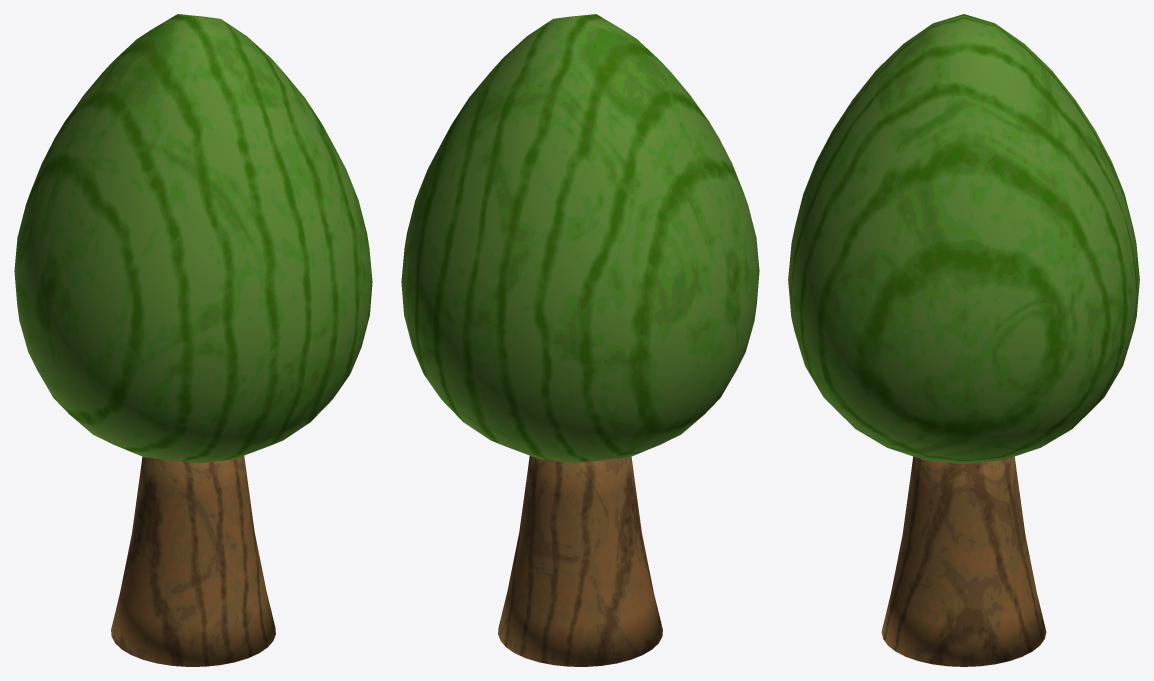
The model's file is tree3Posterized.glb.
3 renders of one model, left to right at view 1: azimuth 30°, elevation 25°; view 2: azimuth 150°, elevation 25°; view 3: azimuth 270°, elevation 25°, orthographic.
Visible parts, largest first — view 1: WoodTree4, WoodTree4_bark; view 2: WoodTree4, WoodTree4_bark; view 3: WoodTree4, WoodTree4_bark.
Boxes of the visible parts, x1,y1,x2,y2 form: WoodTree4: (14, 14, 372, 463); WoodTree4_bark: (111, 456, 275, 666); WoodTree4: (401, 14, 759, 463); WoodTree4_bark: (498, 456, 662, 666); WoodTree4: (788, 14, 1139, 464); WoodTree4_bark: (881, 456, 1046, 666).
Size of the model in its own units: 3.62 by 6.97 by 3.62.
2 materials, 2 textured.
